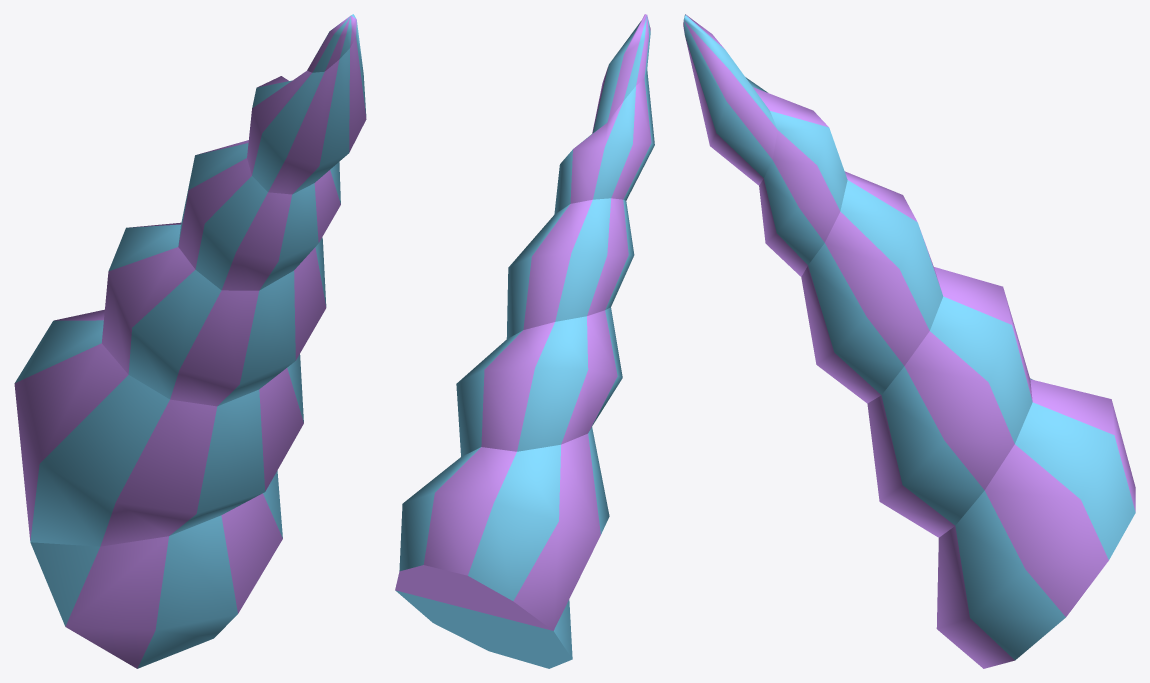
Rendered from Unicorn.FBX.
The picture shows the model from 3 angles, left to right: view 1: azimuth 30°, elevation 25°; view 2: azimuth 150°, elevation 25°; view 3: azimuth 270°, elevation 25°; orthographic projection. The views are drawn at different scales.
Visible parts, largest first — view 1: CuernoUni; view 2: CuernoUni; view 3: CuernoUni.
Boxes of the visible parts, bbox=[...] form: CuernoUni: bbox=[14, 14, 366, 668]; CuernoUni: bbox=[395, 14, 654, 668]; CuernoUni: bbox=[683, 14, 1135, 668].
Size of the model in its own units: 0.1643 by 0.4828 by 0.3069.
